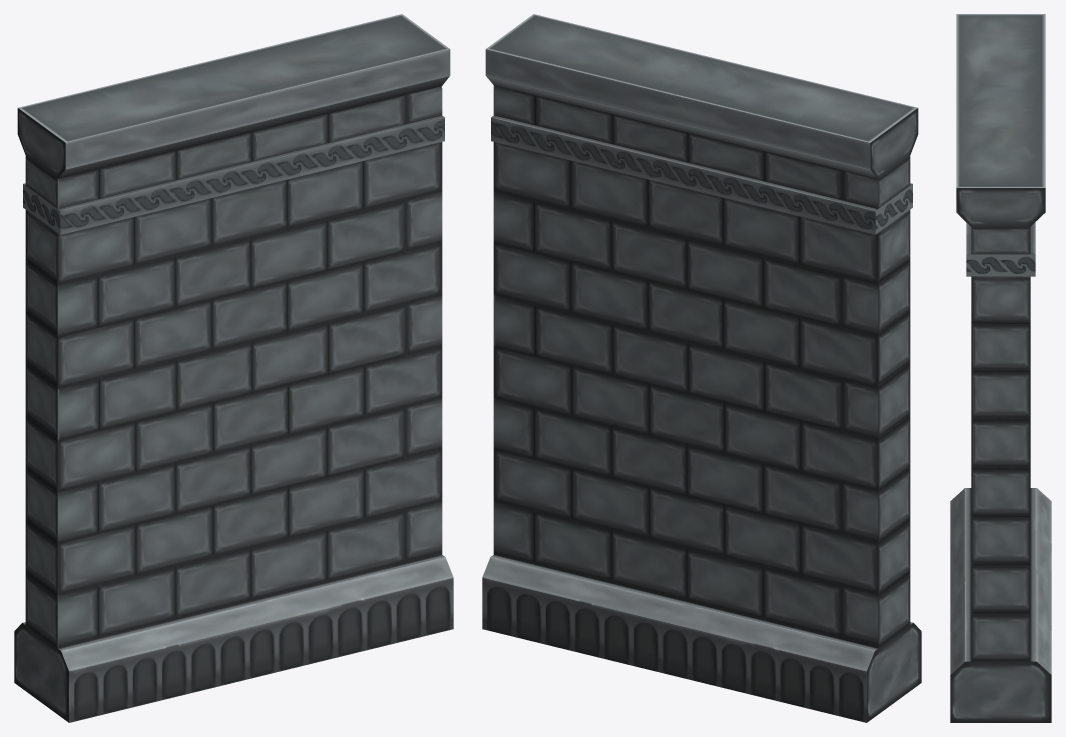
The model's file is wallStraightPiece.fbx.
3 views of the same model, side by side, from view 1: azimuth 30°, elevation 25°; view 2: azimuth 150°, elevation 25°; view 3: azimuth 270°, elevation 25° (orthographic). The views are drawn at different scales.
Visible parts, largest first — view 1: wallStraightPiece; view 2: wallStraightPiece; view 3: wallStraightPiece.
Boxes of the visible parts, x1,y1,x2,y2 form: wallStraightPiece: (14,14,453,722); wallStraightPiece: (482,14,921,722); wallStraightPiece: (950,14,1051,722).
Size of the model in its own units: 2 by 2.87 by 0.494.
